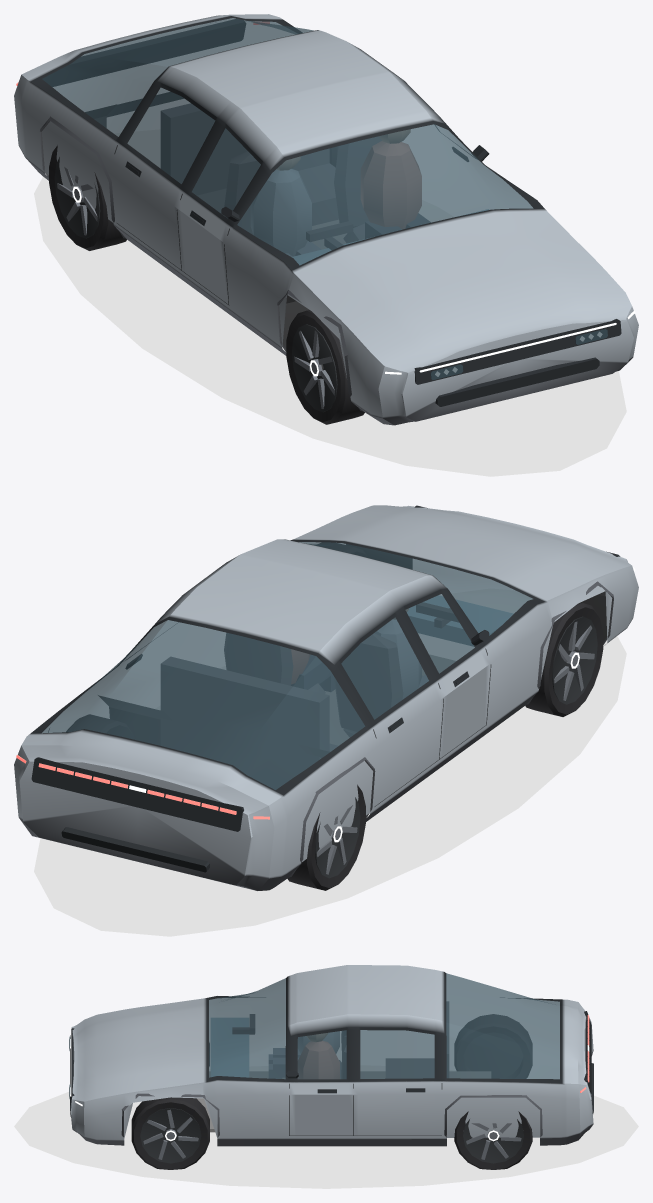
File: car-tech-2127-r2.glb
3 renders of one model, top to bottom at view 1: azimuth 30°, elevation 25°; view 2: azimuth 150°, elevation 25°; view 3: azimuth 270°, elevation 25°, orthographic. The views are drawn at different scales.
Visible parts, largest first — view 1: car_tech_shell, car_tech_parts, car_tech_shell_lit, car_tech_parts_lit; view 2: car_tech_shell, car_tech_parts, car_tech_shell_lit, car_tech_parts_lit; view 3: car_tech_shell, car_tech_parts, car_tech_shell_lit, car_tech_parts_lit.
Part boxes in pixels (<box>): car_tech_shell: <box>14,14,638,425</box>; car_tech_parts: <box>34,19,626,476</box>; car_tech_shell_lit: <box>42,18,533,265</box>; car_tech_parts_lit: <box>16,22,635,379</box>; car_tech_shell: <box>14,505,638,890</box>; car_tech_parts: <box>31,505,626,936</box>; car_tech_shell_lit: <box>42,542,532,789</box>; car_tech_parts_lit: <box>16,562,635,842</box>; car_tech_shell: <box>71,965,593,1146</box>; car_tech_parts: <box>14,1001,638,1188</box>; car_tech_shell_lit: <box>209,973,559,1079</box>; car_tech_parts_lit: <box>69,1015,589,1141</box>.
Bounding box in the file's own units: 2.6 × 1.36 × 5.5.
